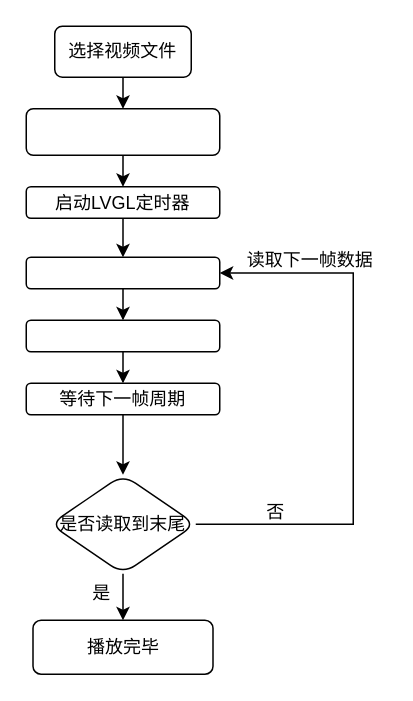
Image size: 413x701. Some labels were removed from this diagram. Here are the shapes that lost their labels. From the top down, the centre of each, then its label:
At point (122, 131): "打开文件头部,获取视频数据大小".
At point (122, 272): "读取RGB帧数据".
At point (122, 335): "输出到LCD显示".
